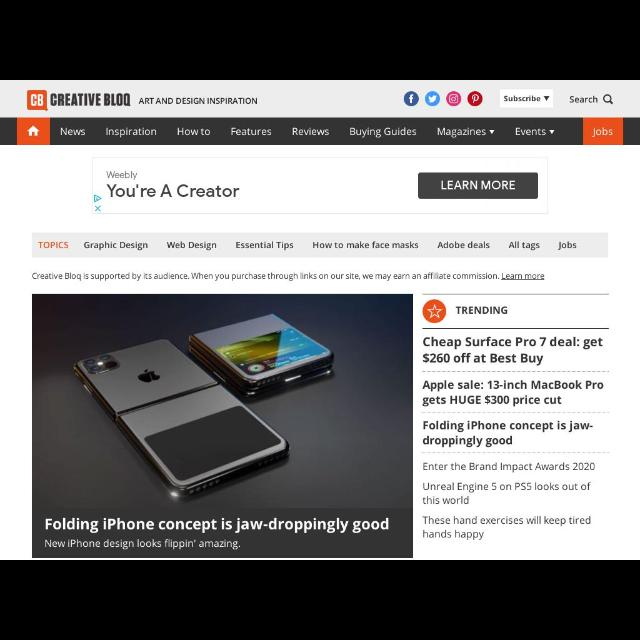button: (16, 117, 50, 145)
icon: (27, 125, 39, 136), (604, 95, 614, 105), (549, 128, 555, 136), (544, 95, 550, 101), (489, 129, 495, 135)
iframe: (91, 157, 548, 215)
image: (31, 293, 415, 559), (27, 90, 131, 112), (422, 299, 448, 323), (424, 91, 440, 107), (446, 92, 462, 106), (468, 91, 482, 107), (405, 92, 419, 106)
multitab: (33, 233, 609, 259)
spinner: (500, 90, 554, 108), (436, 127, 496, 139), (514, 127, 556, 137)
text: (44, 516, 390, 534), (422, 336, 604, 366), (32, 272, 546, 282), (423, 379, 605, 406), (422, 420, 594, 448), (422, 482, 592, 506), (422, 516, 592, 540), (44, 540, 240, 550), (422, 462, 596, 472), (140, 96, 258, 105), (313, 241, 419, 249), (349, 128, 416, 138), (84, 241, 148, 251), (105, 126, 157, 138), (456, 305, 508, 315), (436, 128, 486, 138), (236, 242, 294, 250), (438, 242, 490, 250), (166, 242, 217, 250), (230, 128, 272, 136), (515, 127, 547, 137), (38, 240, 70, 250), (292, 128, 330, 136), (176, 128, 210, 136), (508, 242, 540, 250), (569, 96, 599, 104), (504, 96, 542, 102), (592, 128, 614, 138), (60, 128, 86, 136), (558, 242, 578, 252)
textbutton: (582, 118, 624, 146)
toolbar: (1, 118, 639, 146)
